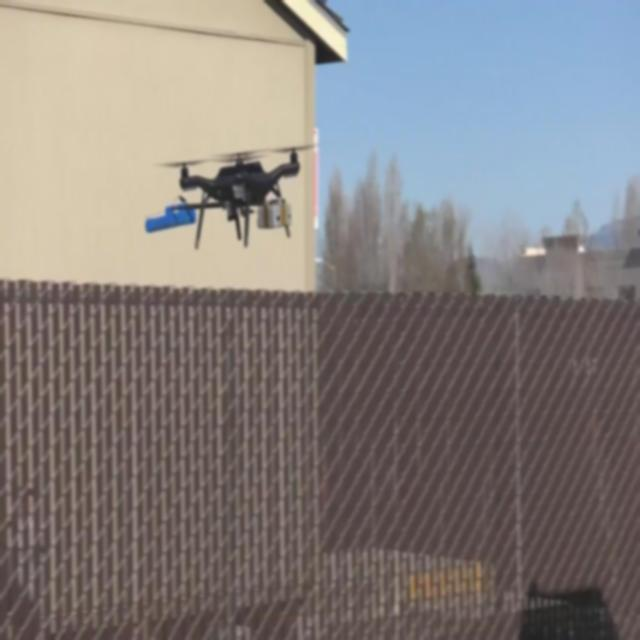UAV: (172, 141, 300, 248)
